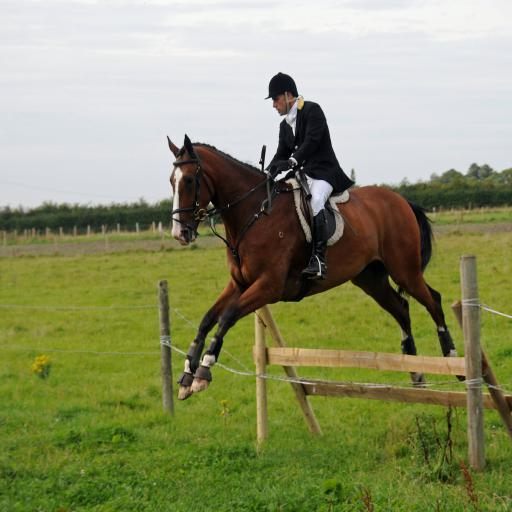Horse: (168, 134, 468, 398)
